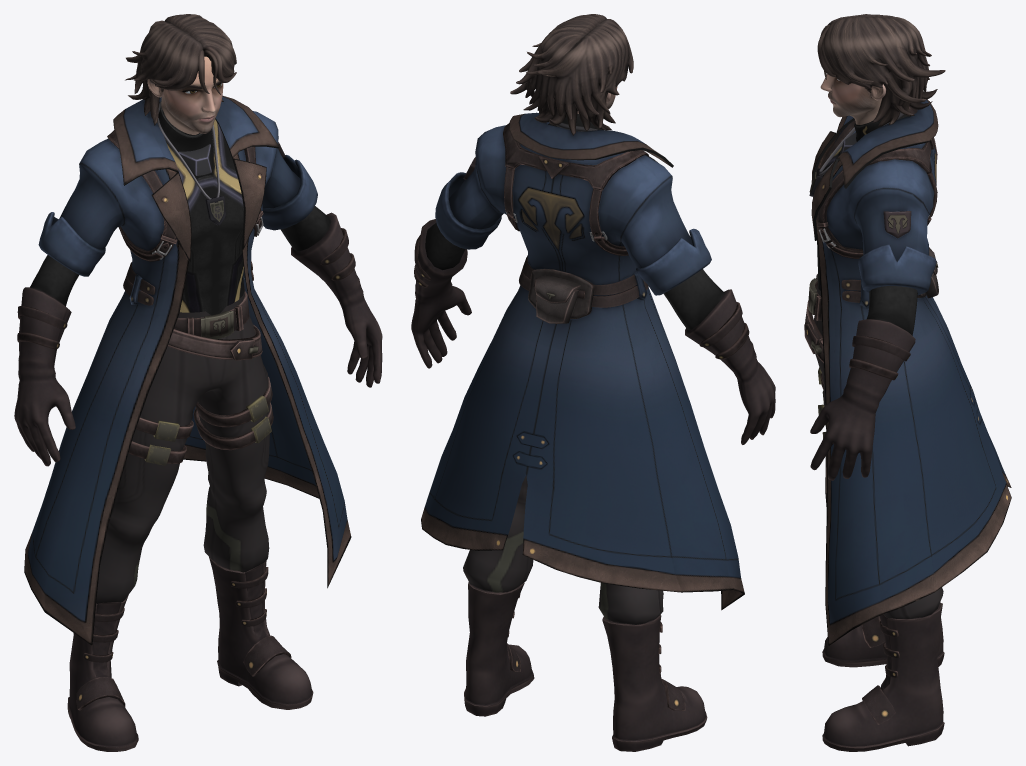
The model's file is OMNIDPS-Gunner_Low_NoRig_v2.fbx.
3 renders of one model, left to right at view 1: azimuth 30°, elevation 25°; view 2: azimuth 150°, elevation 25°; view 3: azimuth 270°, elevation 25°, orthographic.
Parts seen in each view (by area): view 1: NewCloak_Low, Body_Low, Pants_Low, Boots_Low, Collar_Low, TopHair, Face, R_Cuff, L_Cuff, L_LegBelt, LowBelt_Low, MajorStrap_Low (+12 smaller); view 2: NewCloak_Low, Boots_Low, Body_Low, TopHair, Pants_Low, Collar_Low, MajorStrap_Low, R_Cuff, L_Cuff, BackPack_Low, CentreBelts_Low, Backhair (+3 smaller); view 3: NewCloak_Low, Boots_Low, Body_Low, TopHair, Collar_Low, L_Cuff, Face, MajorStrap_Low, Pants_Low, Backhair, L_GloveStraps, L_BBoot (+4 smaller).
Boxes of the visible parts, x1,y1,x2,y2 form: NewCloak_Low: (24, 101, 351, 645); Body_Low: (14, 100, 382, 466); Pants_Low: (96, 286, 269, 603); Boots_Low: (67, 557, 313, 751); Collar_Low: (113, 95, 279, 262); TopHair: (125, 14, 236, 93); Face: (147, 56, 223, 134); R_Cuff: (38, 212, 105, 276); L_Cuff: (262, 155, 317, 230); L_LegBelt: (193, 377, 273, 450); LowBelt_Low: (168, 325, 262, 359); MajorStrap_Low: (107, 130, 261, 261); NewCloak_Low: (421, 122, 744, 610); Boots_Low: (464, 582, 707, 751); Body_Low: (411, 114, 775, 444); TopHair: (510, 14, 633, 120); Pants_Low: (463, 475, 663, 624); Collar_Low: (509, 112, 673, 167); MajorStrap_Low: (503, 123, 649, 255); R_Cuff: (636, 228, 711, 295); L_Cuff: (435, 172, 501, 249); BackPack_Low: (534, 276, 580, 323); CentreBelts_Low: (519, 255, 648, 307); Backhair: (523, 92, 615, 135); NewCloak_Low: (816, 109, 1011, 645); Boots_Low: (822, 602, 944, 751); Body_Low: (810, 114, 917, 480); TopHair: (821, 14, 945, 106); Collar_Low: (811, 99, 938, 240); L_Cuff: (858, 244, 936, 295); Face: (820, 74, 885, 124); MajorStrap_Low: (817, 106, 931, 258); Pants_Low: (814, 274, 943, 618); Backhair: (872, 72, 937, 126); L_GloveStraps: (849, 335, 910, 380); L_BBoot: (862, 685, 895, 724).
Size of the model in its own units: 124 by 230 by 63.46.
3 materials, 2 textured.
